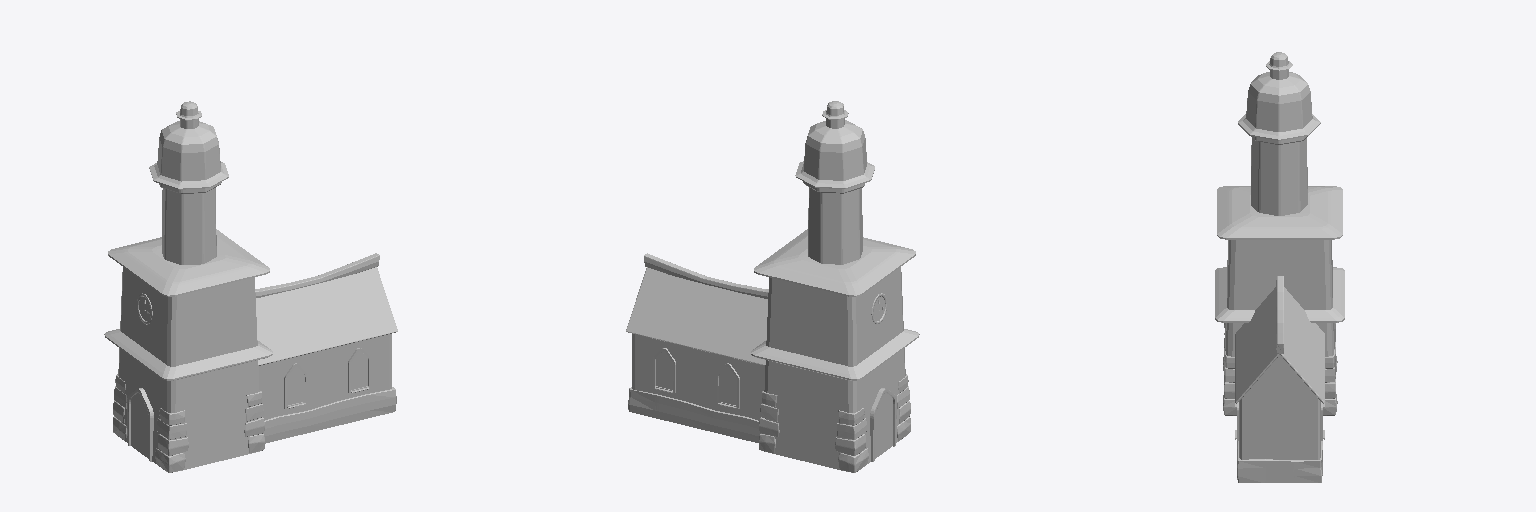
File: SM_cottageB.obj
3 renders of one model, left to right at view 1: azimuth 30°, elevation 25°; view 2: azimuth 150°, elevation 25°; view 3: azimuth 270°, elevation 25°, orthographic.
Parts seen in each view (by area): view 1: tour_base, toit, base_maison, toit_tour_haut, toit_tour_tout_en_haut, tour_haute, pierre, base_pierre, toit_tour_bas, toit_poutre, fenetre_vitre, porte_planche (+2 smaller); view 2: tour_base, toit, base_maison, toit_tour_haut, toit_tour_tout_en_haut, tour_haute, pierre, base_pierre, toit_tour_bas, toit_poutre, fenetre_vitre, porte_planche (+2 smaller); view 3: tour_base, base_maison, toit, toit_tour_haut, toit_tour_tout_en_haut, tour_haute, base_pierre, toit_tour_bas, pierre, toit_poutre.
Part boxes in pixels (bbox=[...]): tour_base: bbox=[118, 267, 259, 471]; toit: bbox=[256, 267, 397, 365]; base_maison: bbox=[259, 334, 391, 420]; toit_tour_haut: bbox=[108, 229, 269, 296]; toit_tour_tout_en_haut: bbox=[149, 101, 228, 189]; tour_haute: bbox=[159, 182, 221, 264]; pierre: bbox=[113, 374, 264, 472]; base_pierre: bbox=[263, 387, 396, 443]; toit_tour_bas: bbox=[104, 329, 272, 380]; toit_poutre: bbox=[255, 253, 379, 297]; fenetre_vitre: bbox=[287, 351, 367, 405]; porte_planche: bbox=[131, 393, 148, 458]; tour_base: bbox=[764, 267, 905, 471]; toit: bbox=[626, 267, 767, 365]; base_maison: bbox=[632, 334, 764, 420]; toit_tour_haut: bbox=[754, 229, 915, 296]; toit_tour_tout_en_haut: bbox=[795, 101, 874, 188]; tour_haute: bbox=[803, 182, 864, 264]; pierre: bbox=[759, 374, 910, 472]; base_pierre: bbox=[628, 387, 760, 442]; toit_tour_bas: bbox=[751, 329, 919, 380]; toit_poutre: bbox=[644, 253, 768, 298]; fenetre_vitre: bbox=[656, 351, 736, 405]; porte_planche: bbox=[875, 393, 892, 458]; tour_base: bbox=[1224, 240, 1335, 382]; base_maison: bbox=[1239, 355, 1320, 459]; toit: bbox=[1235, 287, 1324, 403]; toit_tour_haut: bbox=[1217, 186, 1342, 239]; toit_tour_tout_en_haut: bbox=[1238, 52, 1320, 140]; tour_haute: bbox=[1251, 136, 1307, 215]; base_pierre: bbox=[1237, 441, 1322, 482]; toit_tour_bas: bbox=[1215, 267, 1344, 322]; pierre: bbox=[1223, 323, 1337, 415]; toit_poutre: bbox=[1276, 276, 1283, 353].
Size of the model in its own units: 14.91 by 19.74 by 6.84.